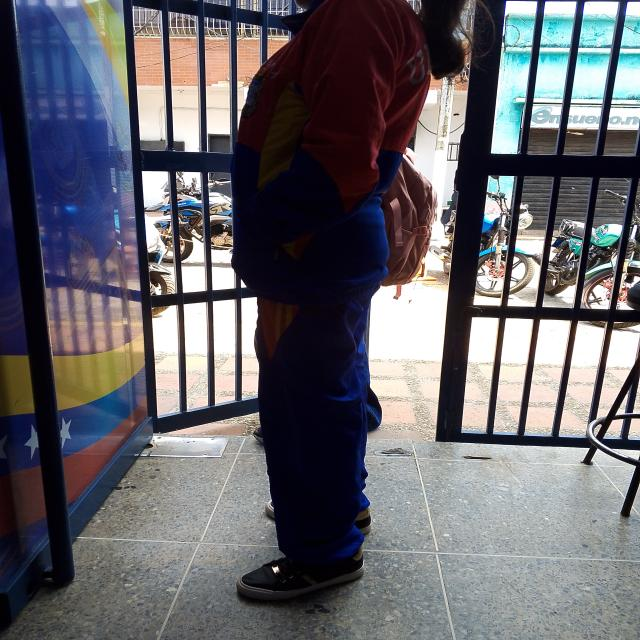chaqueta_unefa: (230, 0, 432, 298)
uniforme_superior: (253, 281, 381, 567)
